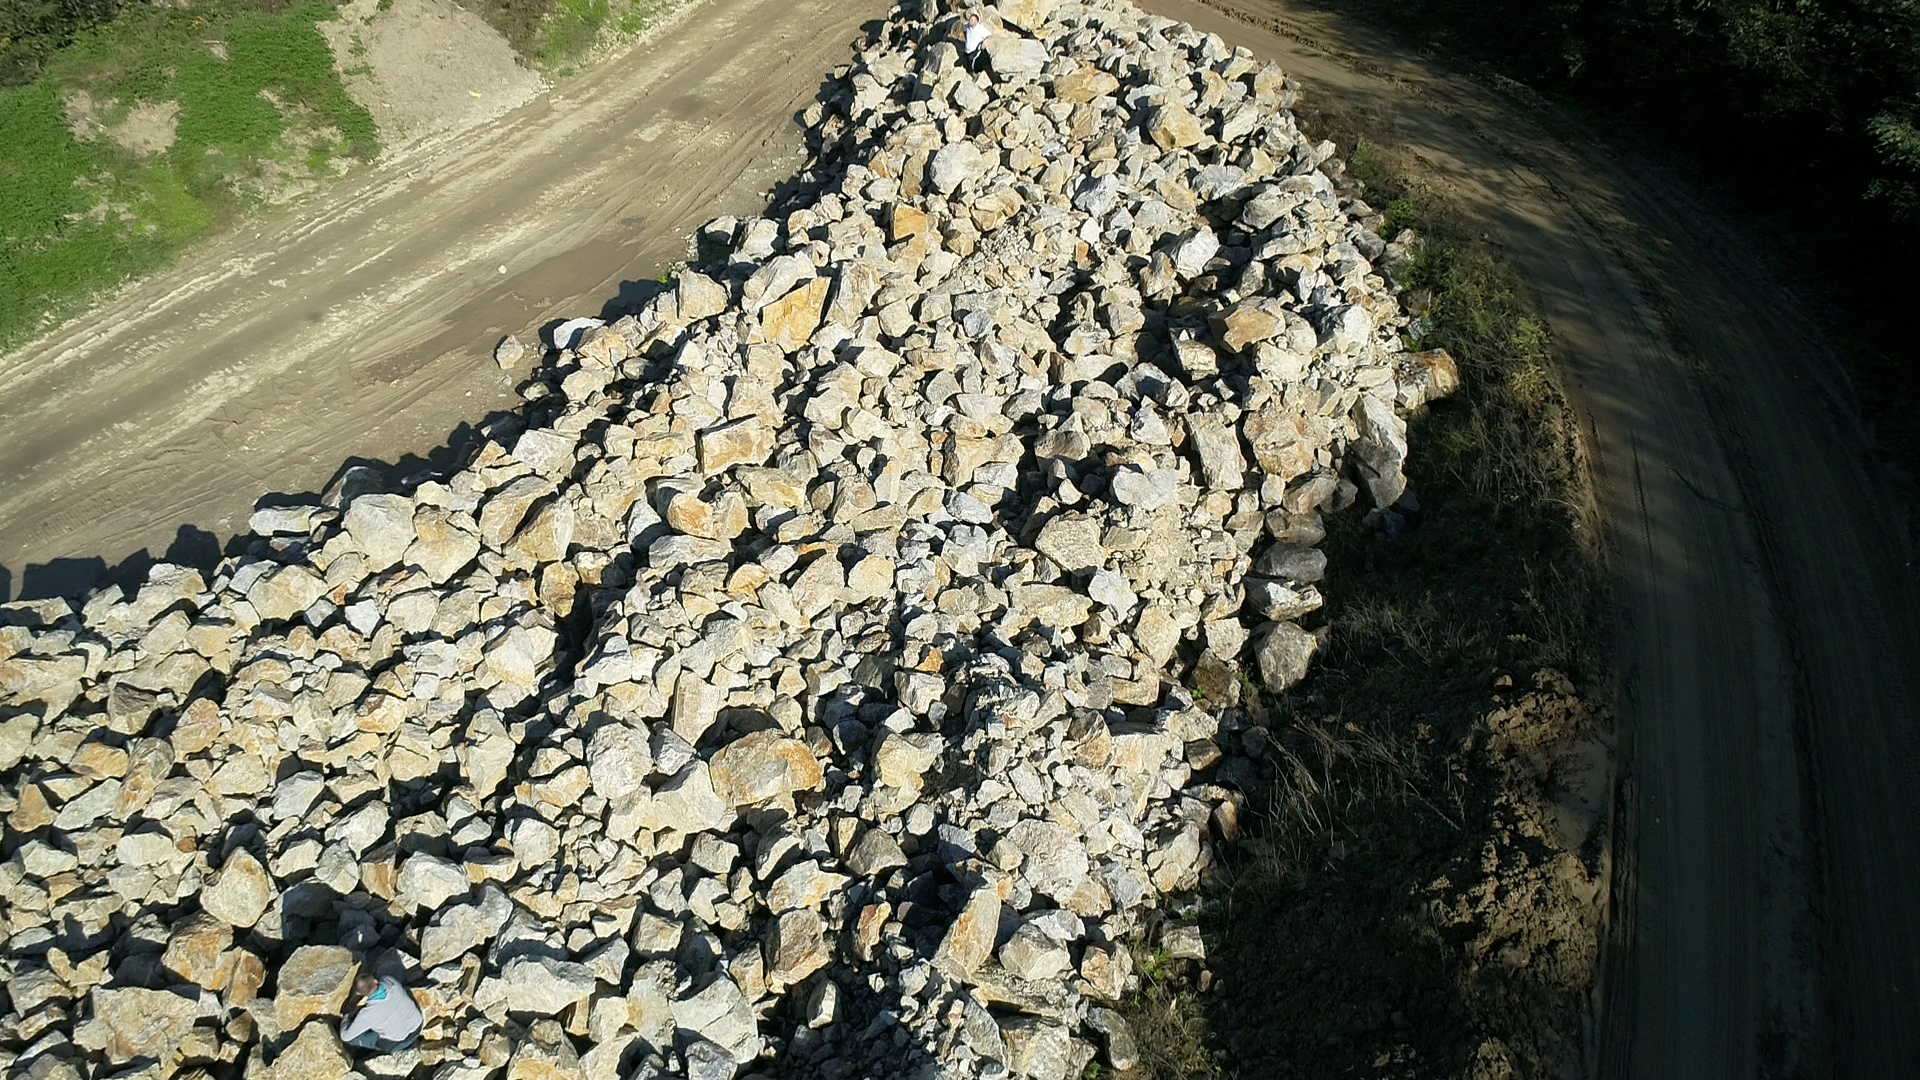person: (340, 972, 423, 1052), (961, 13, 993, 75)
